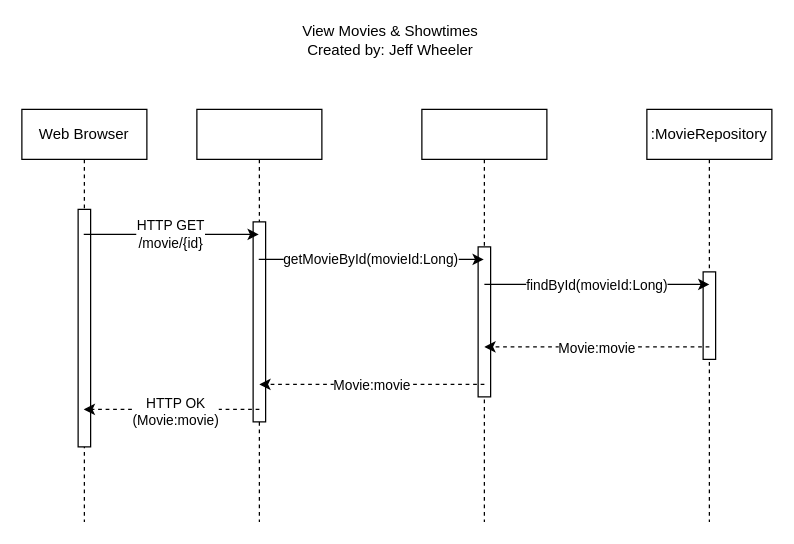
Image size: 794x544. Some labels were removed from this diagram. The shapes that lost their labels are listed below. From the top down, each one's box as (x1, y1, x2, y2) in pixels, then its label:
(196, 108, 322, 522): :MovieController
(421, 108, 547, 522): :MovieService
